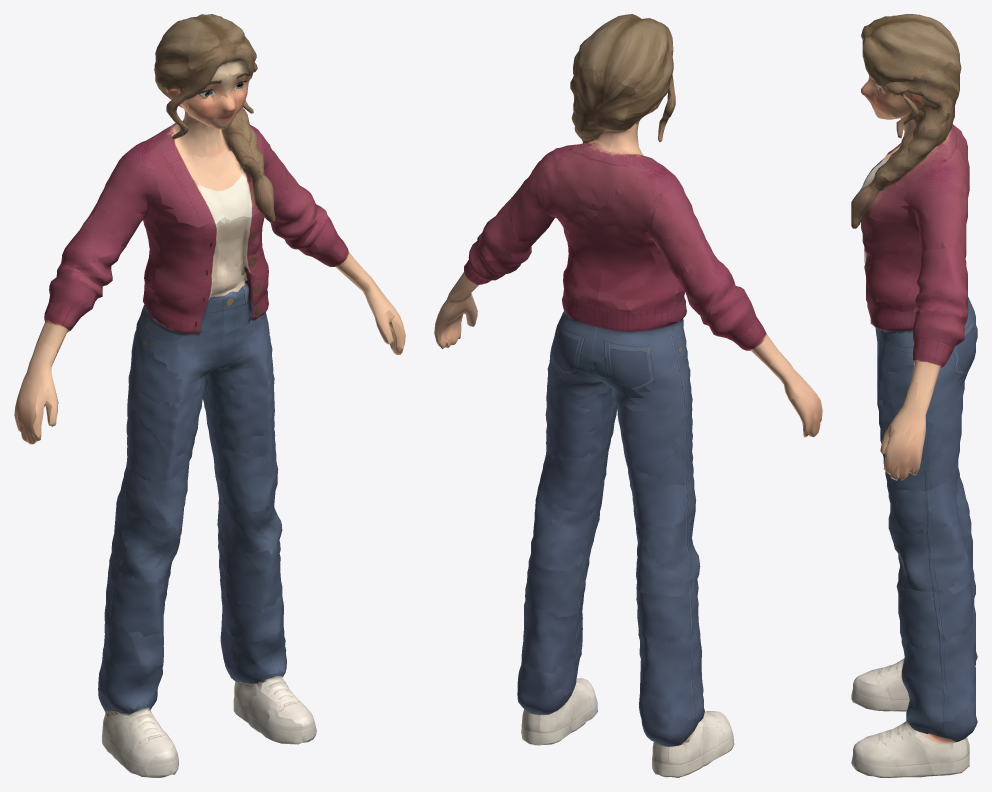
File: misha.glb
3 views of the same model, side by side, from view 1: azimuth 30°, elevation 25°; view 2: azimuth 150°, elevation 25°; view 3: azimuth 270°, elevation 25° (orthographic).
Size of the model in its own units: 1.05 by 1.91 by 0.3053.
1 material, 1 textured.
